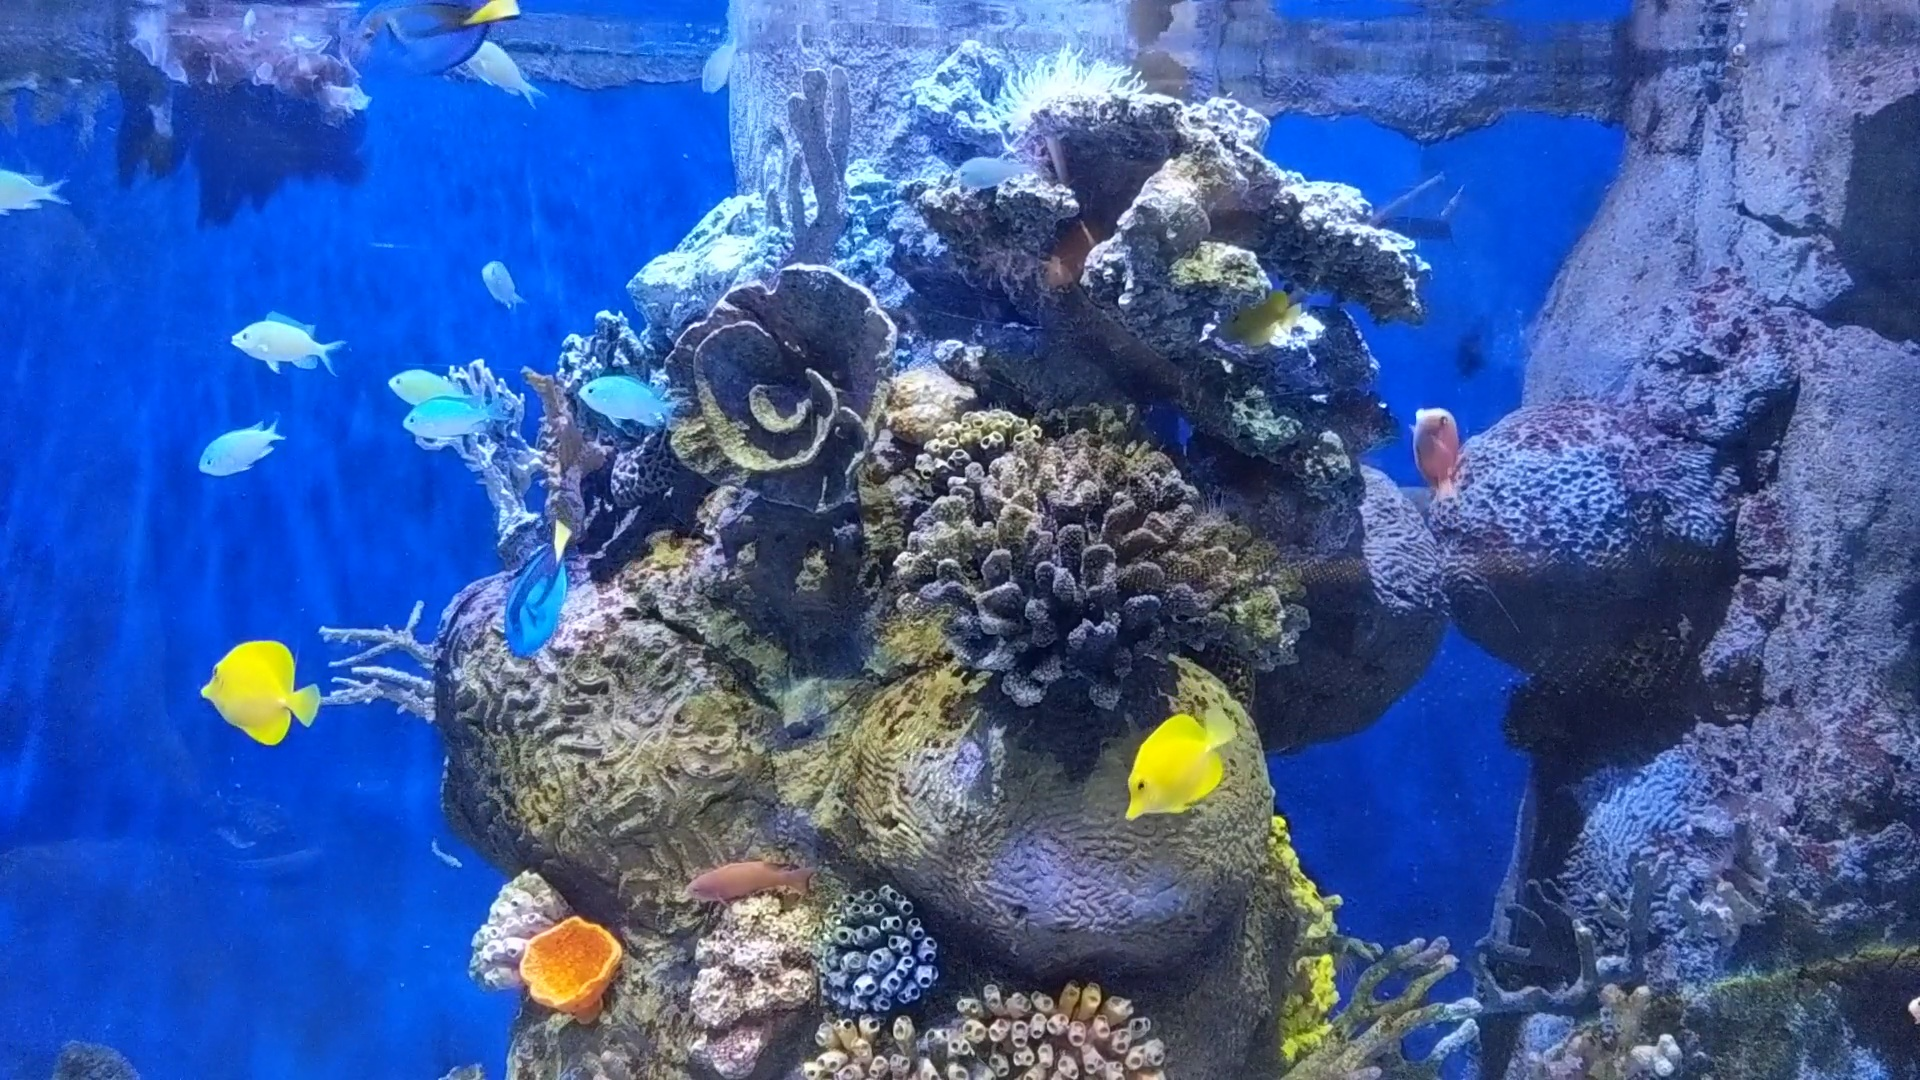blue tang surgeonfish: (487, 512, 578, 655)
damselfish: (220, 305, 360, 390), (175, 402, 298, 495), (572, 368, 695, 444), (402, 386, 510, 448), (384, 357, 469, 415), (469, 255, 534, 324)
pink fish: (1394, 390, 1476, 522)
saddle butterfly fish: (1105, 702, 1250, 819), (186, 634, 324, 746), (1205, 265, 1309, 356)
